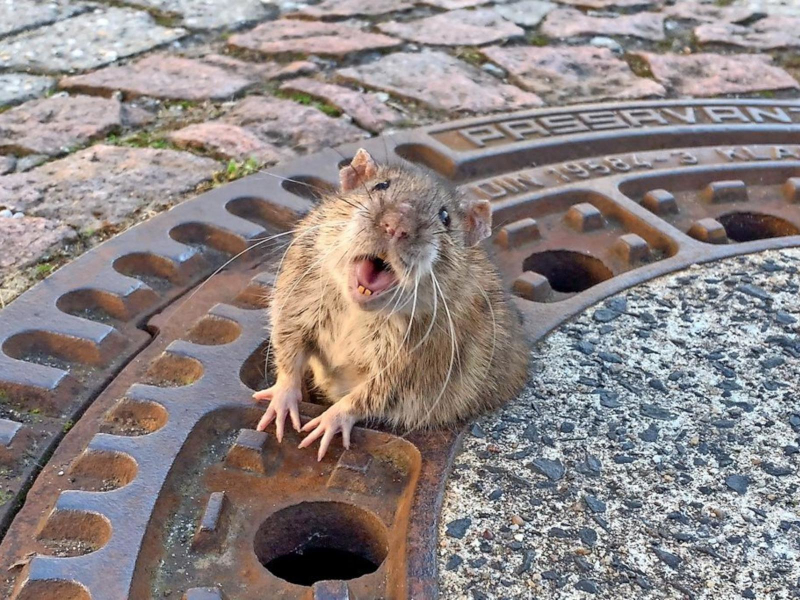rat: (242, 144, 543, 465)
